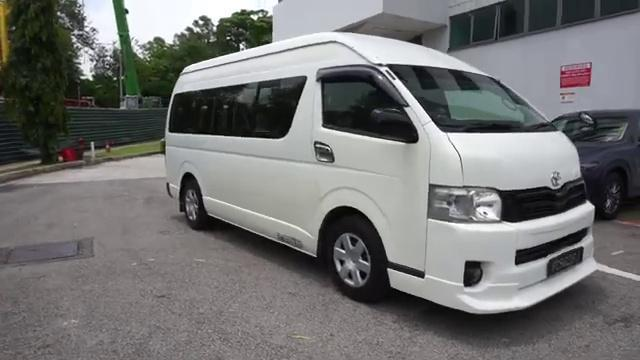van: (160, 30, 606, 319)
